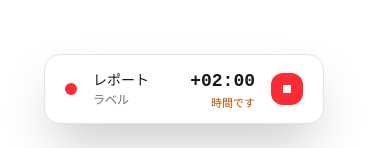
Test: 浮いているタイマーの「あと何分」 › 時間になっても止めず、「時間です」と過ぎた時間を出す。押すと選び直し・外せる
Check: the text "+02:00" is shown, box [190,67,255,95]
Click the button "時間です": (233,103) [207,95,259,111]
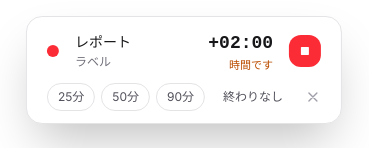
Click the button "終わりなし": (253,97) [211,83,295,111]
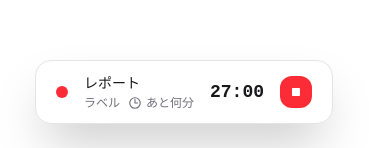
Check: the text "27:00" is shown, box [210,78,264,106]
Check: the button "あと何分" is shown, box [124,95,198,111]
